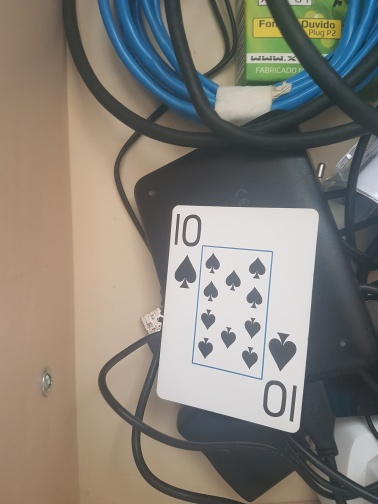ten: (158, 204, 320, 433)
